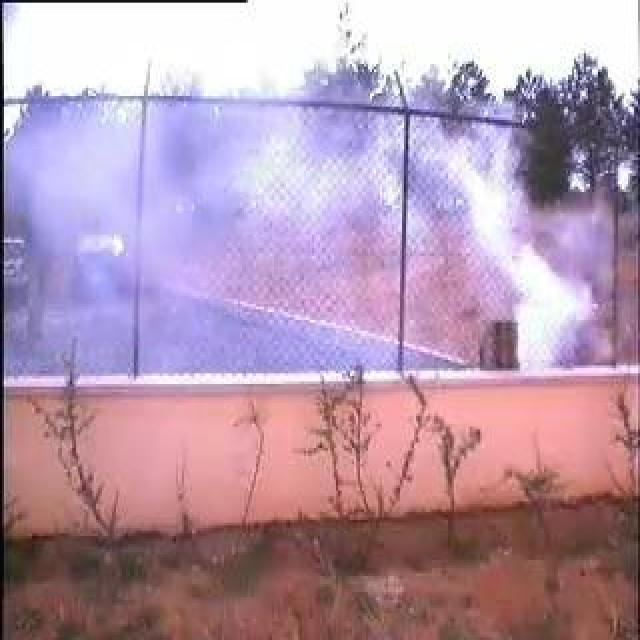Smoke: (30, 108, 576, 361)
